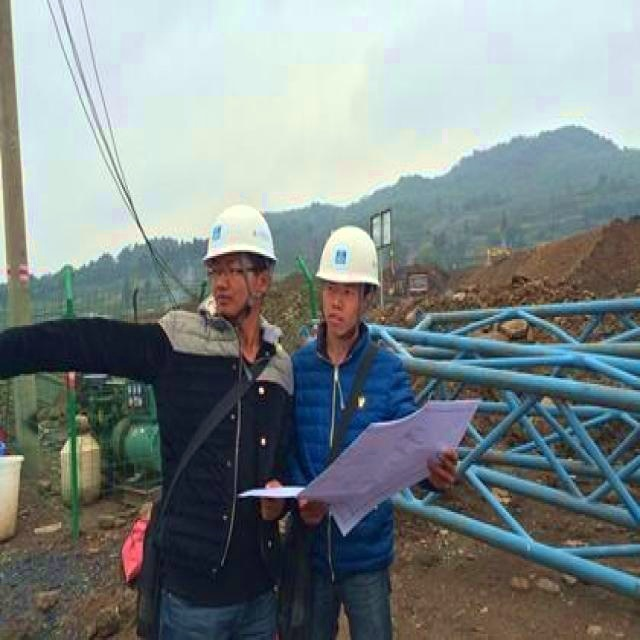Con_Casco: (205, 207, 281, 316), (319, 220, 383, 336)
